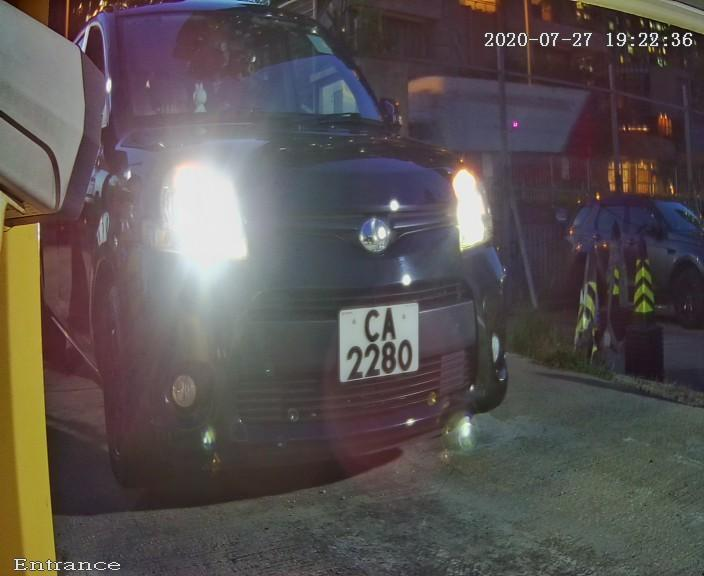privatecar: (92, 8, 541, 515)
